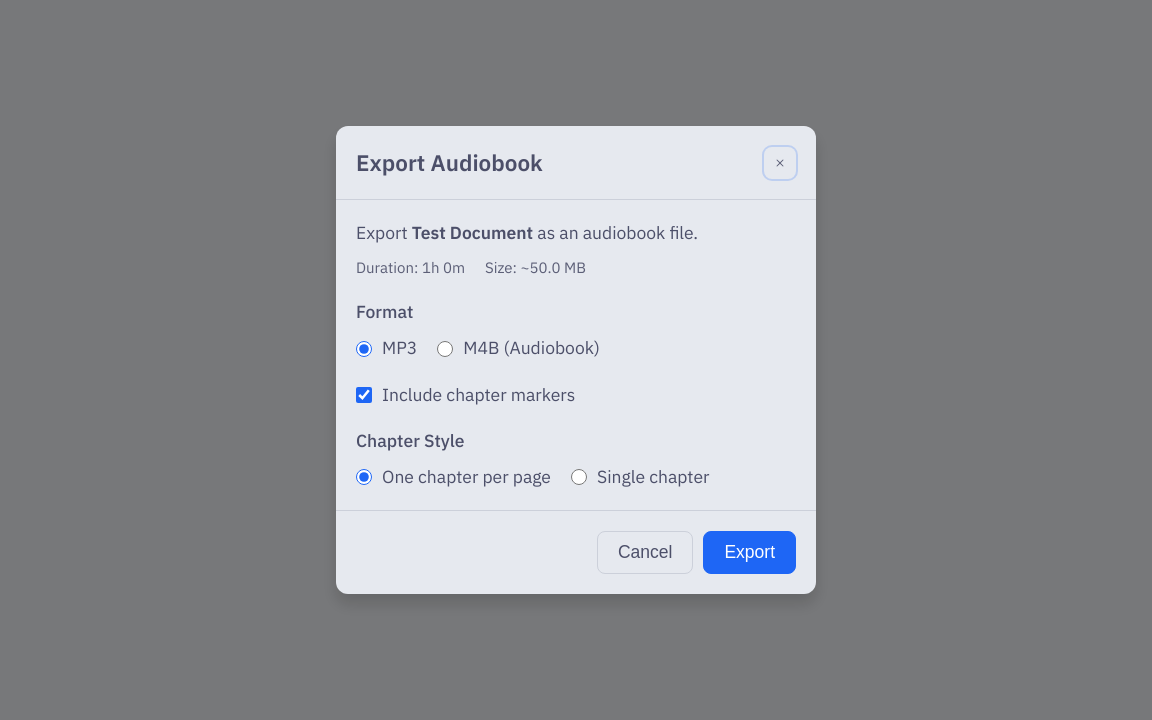
Test case: AudioExportDialog › ready state › hides chapter strategy when chapters disabled
The image size is (1152, 720).
Note: Uncheck include chapters
Click the checkbox labelled "Include chapter markers": (364, 395) [356,387,372,403]
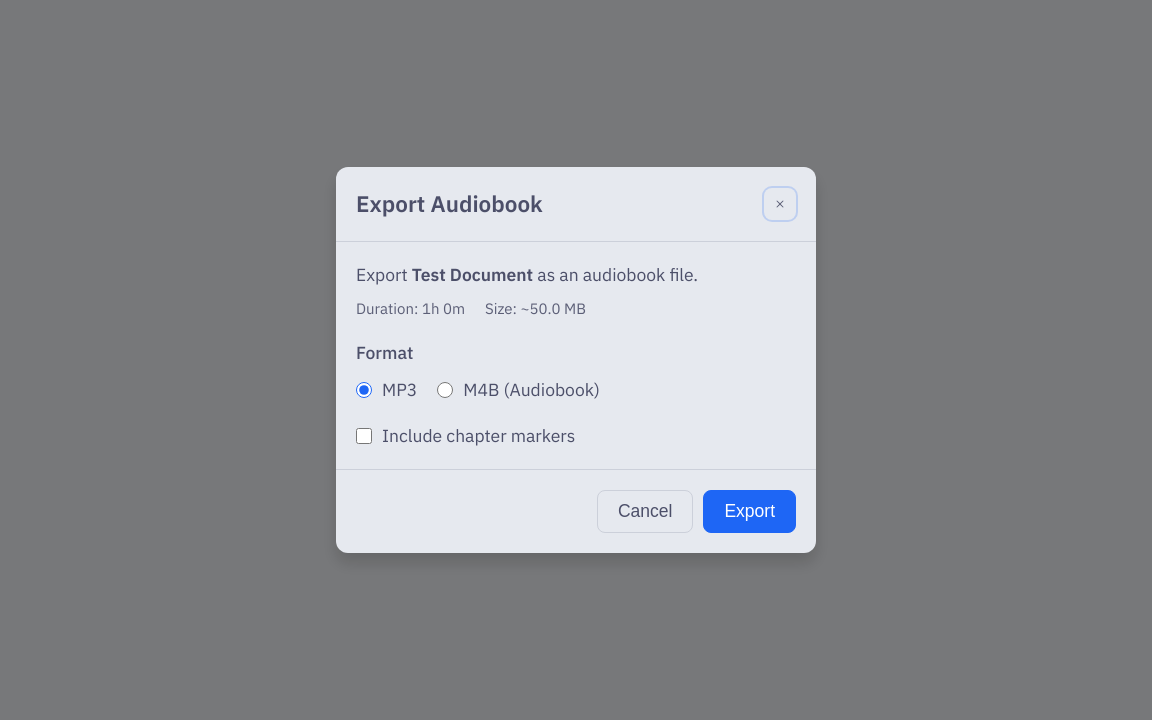
Check: the text "Chapter Style" is gone
